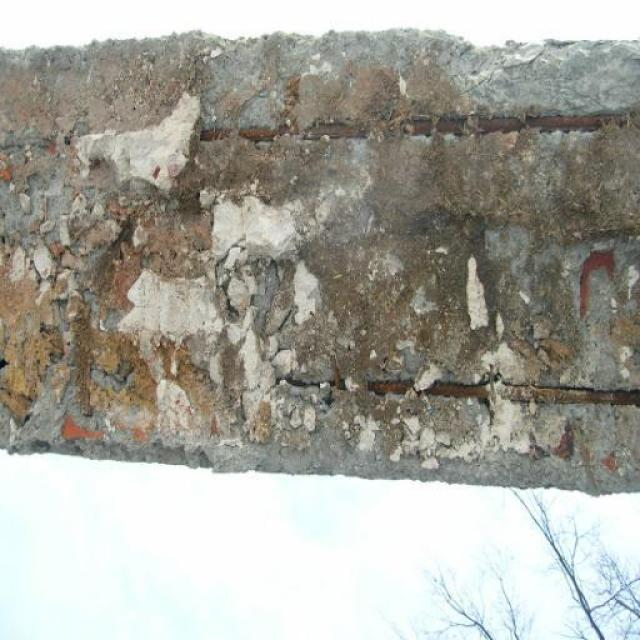D10: (0, 29, 639, 494)
